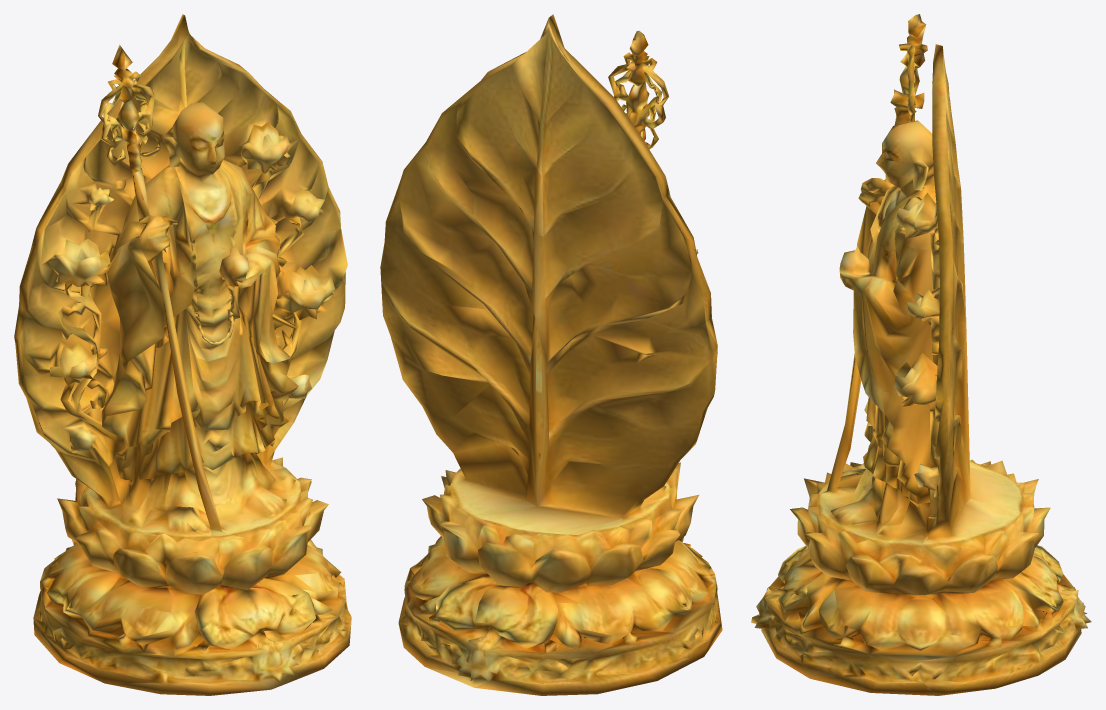
The model's file is far.glb.
The picture shows the model from 3 angles, left to right: view 1: azimuth 30°, elevation 25°; view 2: azimuth 150°, elevation 25°; view 3: azimuth 270°, elevation 25°; orthographic projection. The views are drawn at different scales.
Visible parts, largest first — view 1: four-heavenly-kings-03; view 2: four-heavenly-kings-03; view 3: four-heavenly-kings-03.
Part boxes in pixels (<box>): four-heavenly-kings-03: <box>14,14,351,695</box>; four-heavenly-kings-03: <box>380,14,722,695</box>; four-heavenly-kings-03: <box>751,14,1091,695</box>.
Size of the model in its own units: 0.5705 by 0.9997 by 0.525.
1 material, 1 textured.
